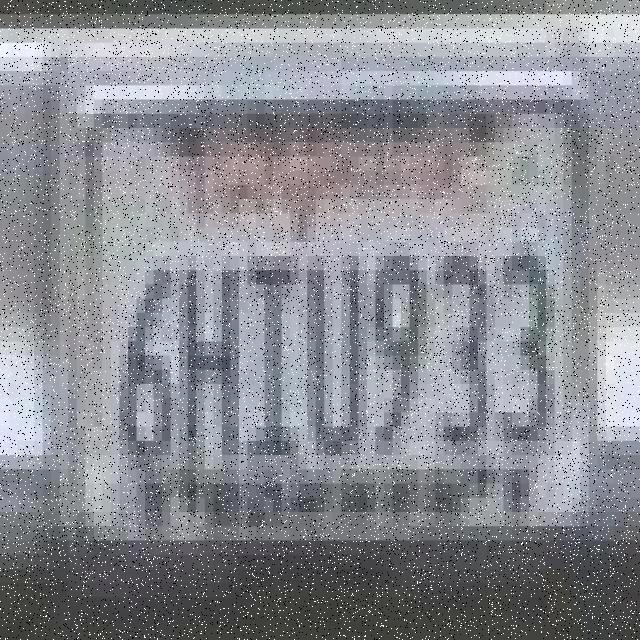licenseplate: (66, 69, 604, 544)
